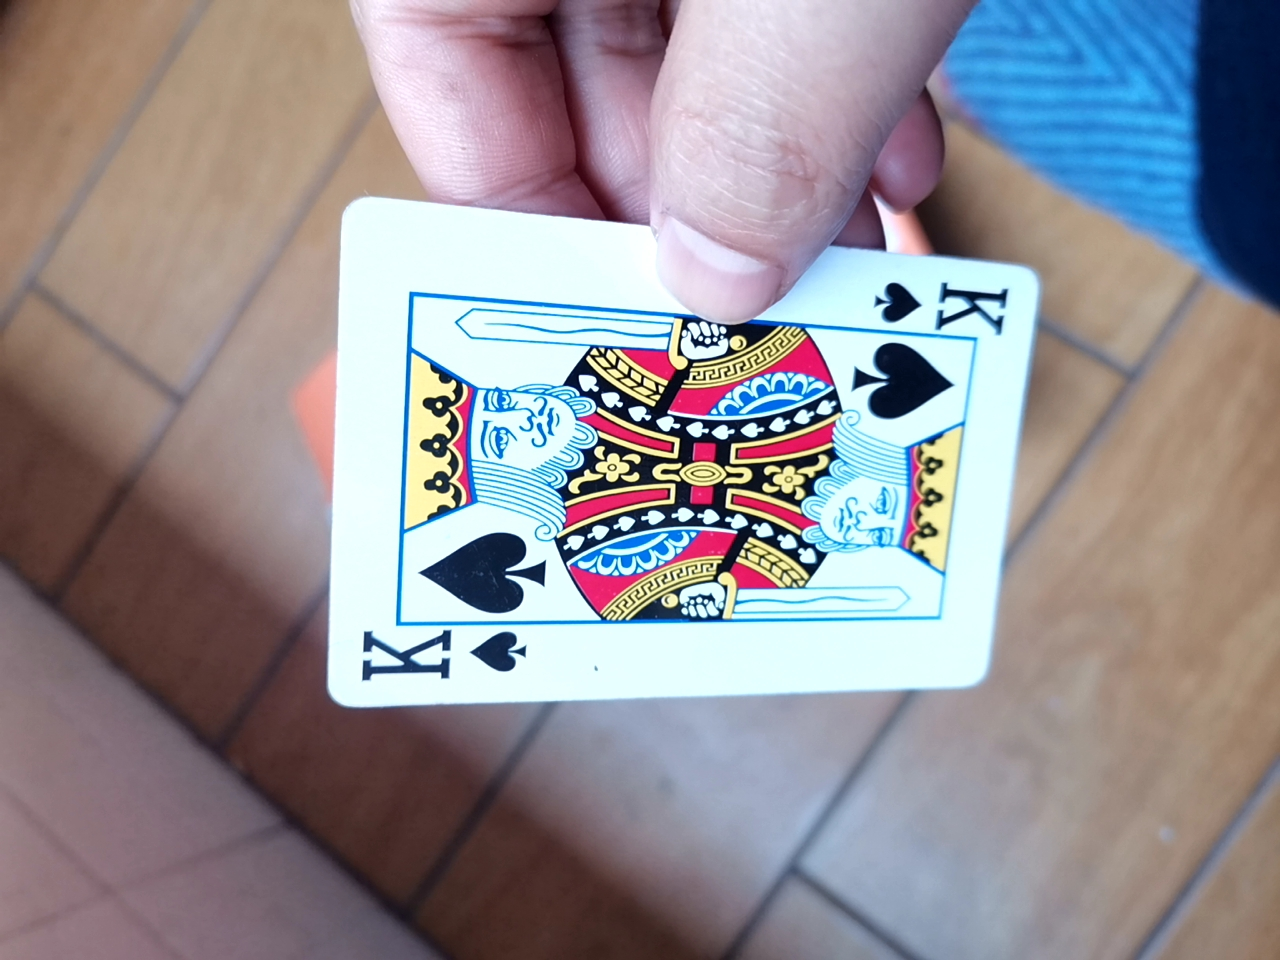ht k: (310, 196, 1034, 728)
